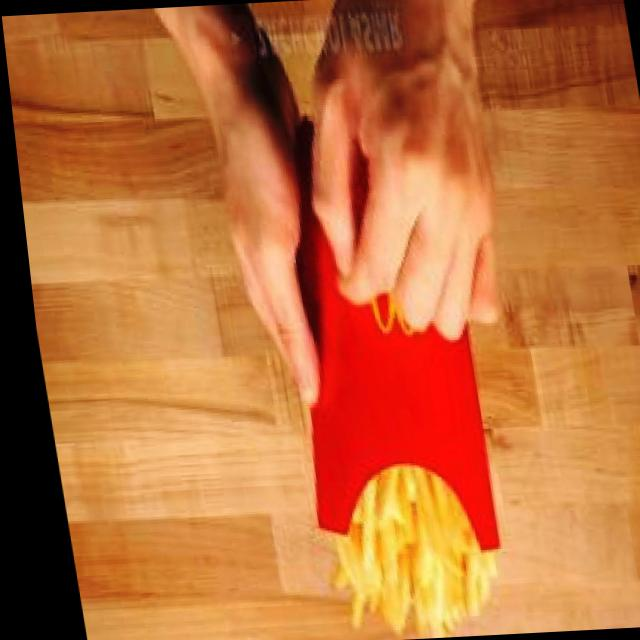french fries: (320, 462, 497, 640)
